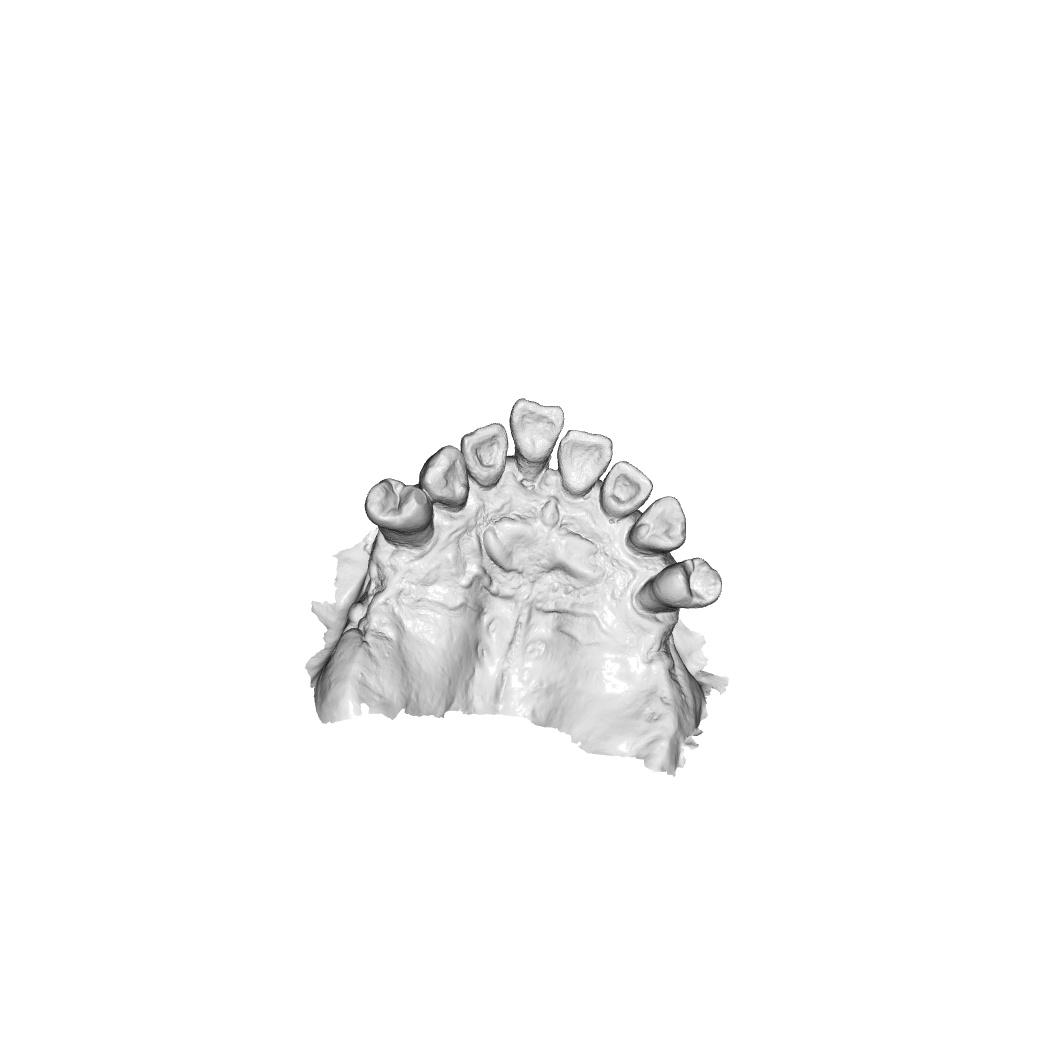canine: (626, 495, 688, 556), (418, 444, 471, 512)
incisor: (556, 429, 614, 497), (509, 397, 565, 466), (597, 459, 654, 522), (460, 423, 509, 489)
premolar: (635, 556, 724, 616), (363, 477, 436, 549)
